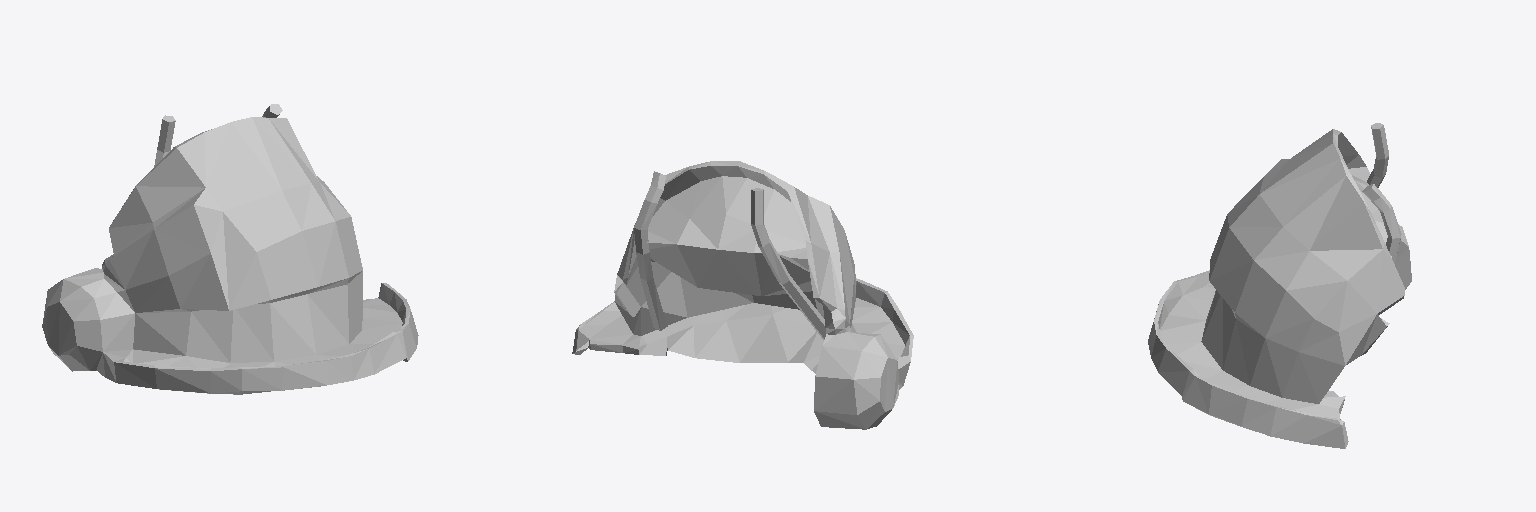
Rendered from PARightPauldron.obj.
The picture shows the model from 3 angles: view 1: azimuth 30°, elevation 25°; view 2: azimuth 150°, elevation 25°; view 3: azimuth 270°, elevation 25°; orthographic projection.
Parts seen in each view (by area): view 1: Raider_RArm:0; view 2: Raider_RArm:0; view 3: Raider_RArm:0.
Part boxes in pixels (bbox=[...]): Raider_RArm:0: bbox=[42, 104, 418, 394]; Raider_RArm:0: bbox=[572, 161, 913, 429]; Raider_RArm:0: bbox=[1148, 123, 1411, 448].
Bounding box in the file's own units: 20.15 × 13.47 × 14.15.